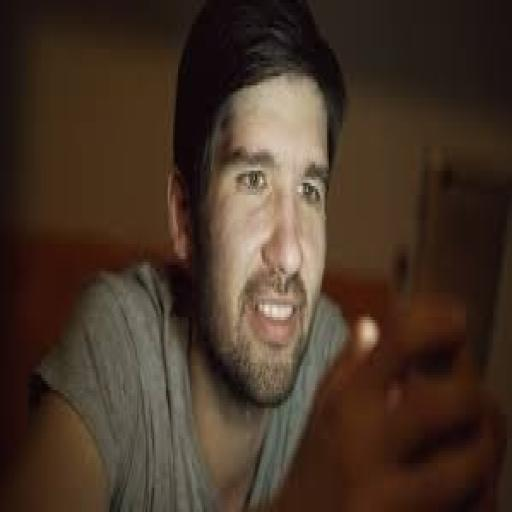texting: (4, 0, 504, 509)
